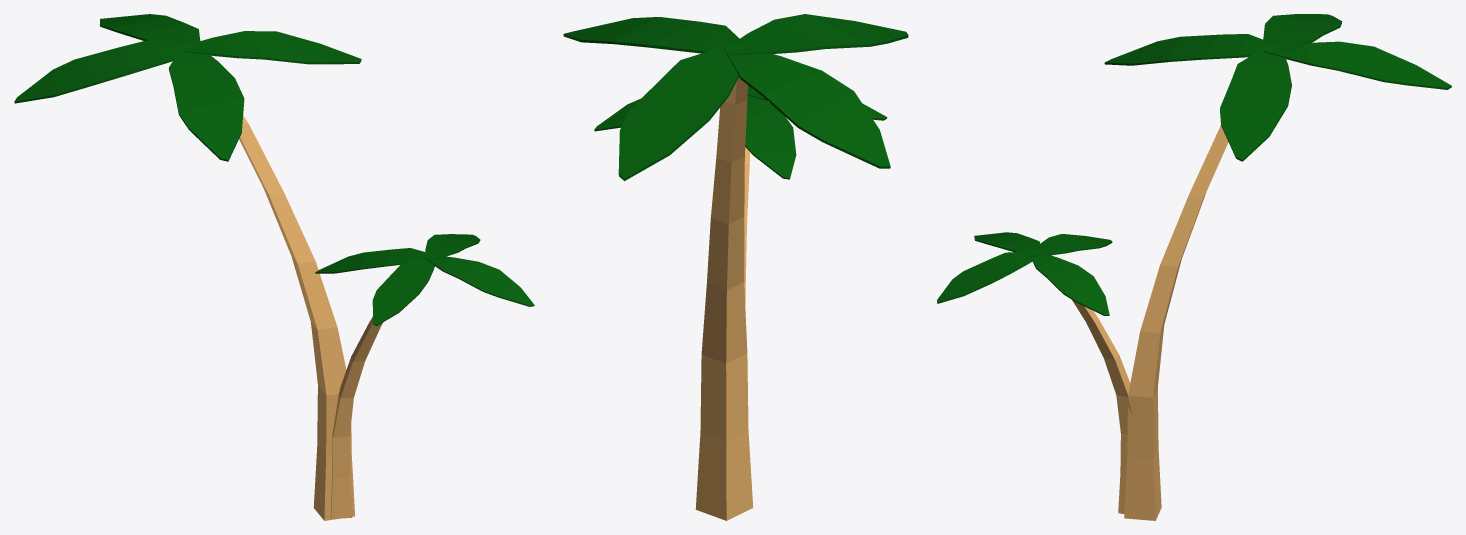
The model's file is CoconutTree2.fbx.
The picture shows the model from 3 angles, left to right: view 1: azimuth 30°, elevation 25°; view 2: azimuth 150°, elevation 25°; view 3: azimuth 270°, elevation 25°; orthographic projection. The views are drawn at different scales.
Parts seen in each view (by area): view 1: Circle.004; view 2: Circle.004; view 3: Circle.004.
Part boxes in pixels (x1,y1,x2,y2): Circle.004: (14,14,534,520); Circle.004: (563,14,908,520); Circle.004: (937,14,1451,520).
Size of the model in its own units: 1134 by 1354 by 1478.
